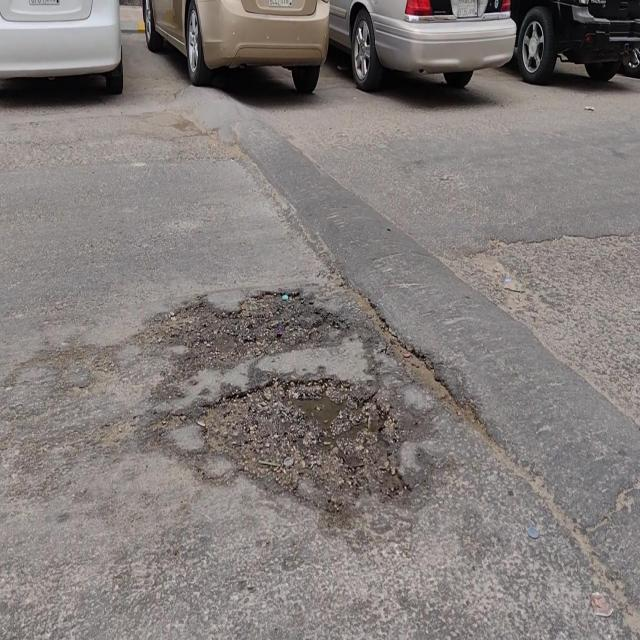Potholes: (198, 369, 411, 518), (162, 284, 333, 383)
